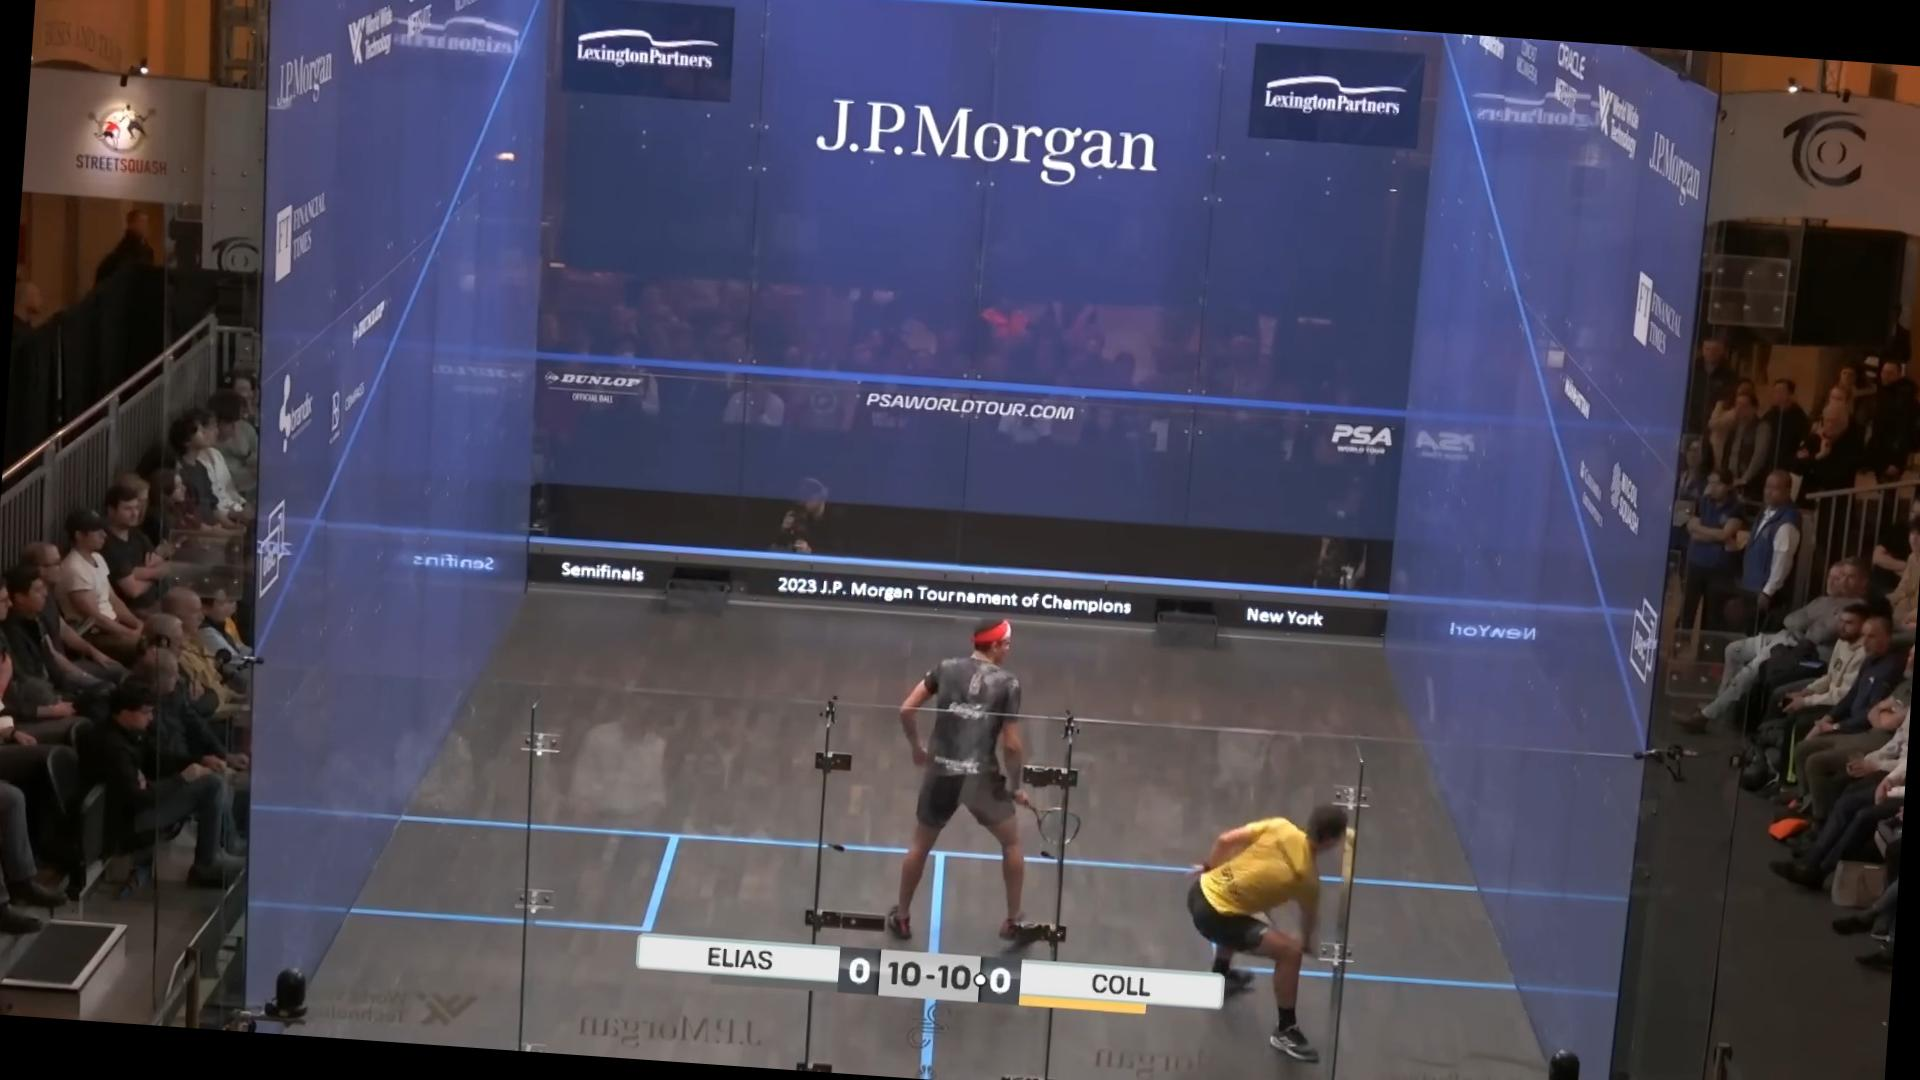Racket: (1007, 795, 1091, 855)
